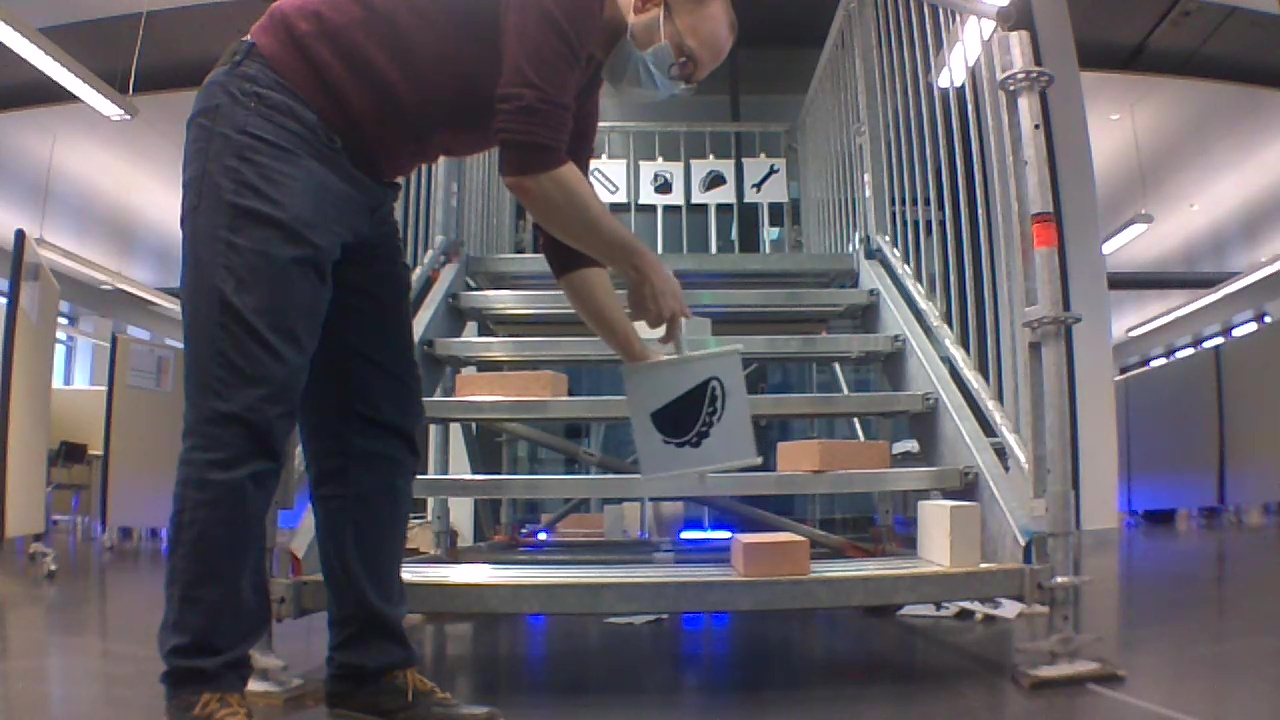brick: (916, 499, 980, 565), (778, 438, 890, 471), (728, 532, 810, 575), (455, 370, 566, 397)
bucket: (645, 168, 678, 197)
edge: (408, 566, 1023, 614), (419, 468, 972, 493)
ruler: (591, 166, 622, 197)
taco: (642, 374, 729, 451), (693, 166, 727, 196)
wrench: (748, 158, 784, 197)
